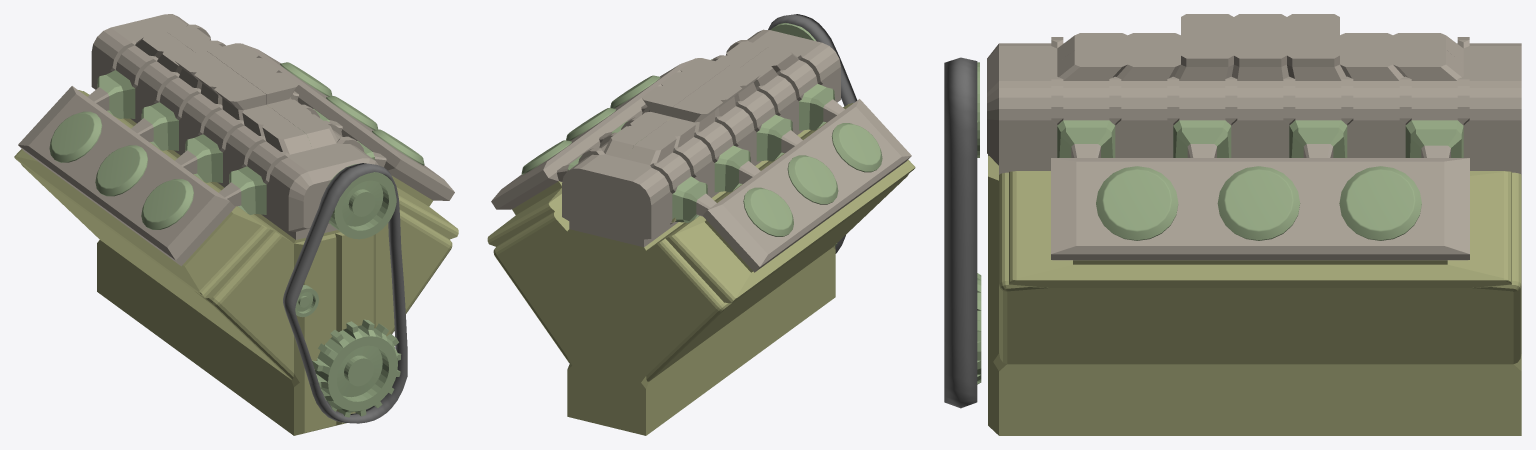
Rendered from Car_Engine.fbx.
3 views of the same model, side by side, from view 1: azimuth 30°, elevation 25°; view 2: azimuth 150°, elevation 25°; view 3: azimuth 270°, elevation 25° (orthographic). The views are drawn at different scales.
Parts seen in each view (by area): view 1: Car_Engine; view 2: Car_Engine; view 3: Car_Engine.
Part boxes in pixels (x1=…): Car_Engine: x1=14, y1=14, x2=458, y2=435; Car_Engine: x1=487, y1=14, x2=915, y2=435; Car_Engine: x1=944, y1=14, x2=1521, y2=435.
Bounding box in the file's own units: 2.06 × 1.98 × 2.78.
